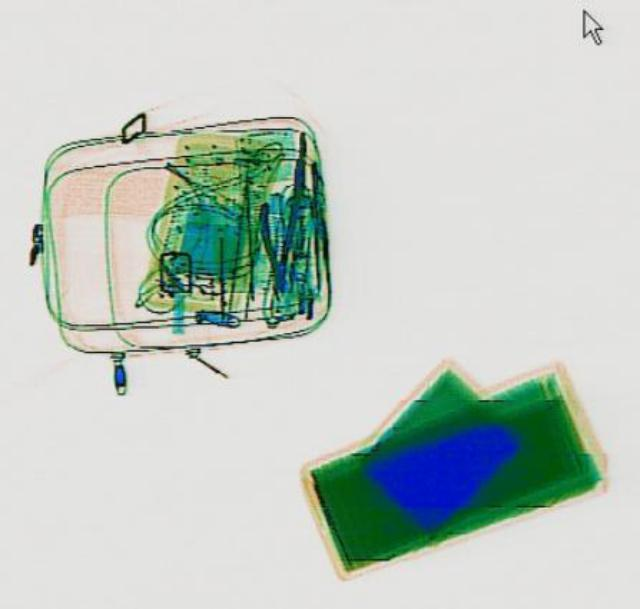Pliers: (256, 200, 296, 297)
